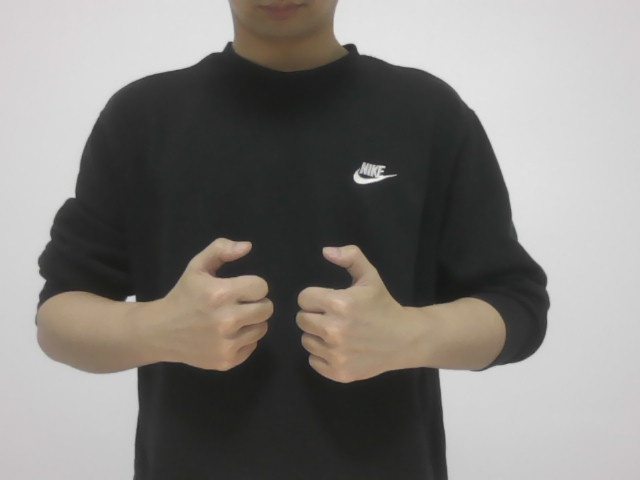marry/wife: (172, 226, 407, 390)
